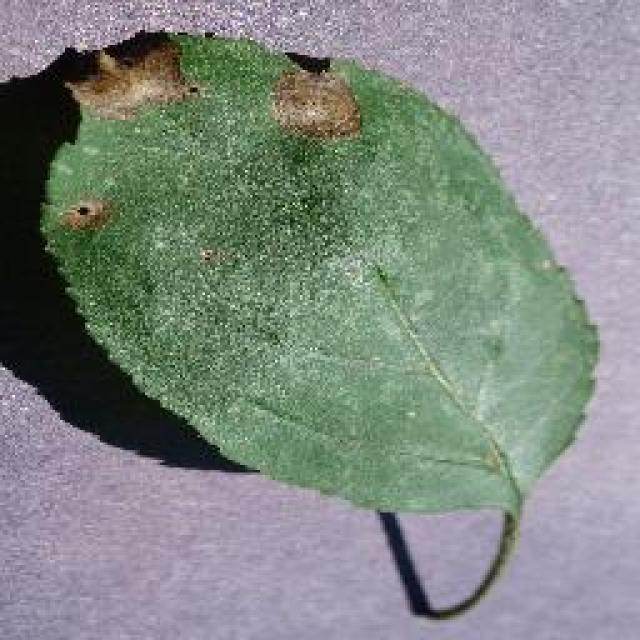Black_rot: (25, 25, 600, 617)
